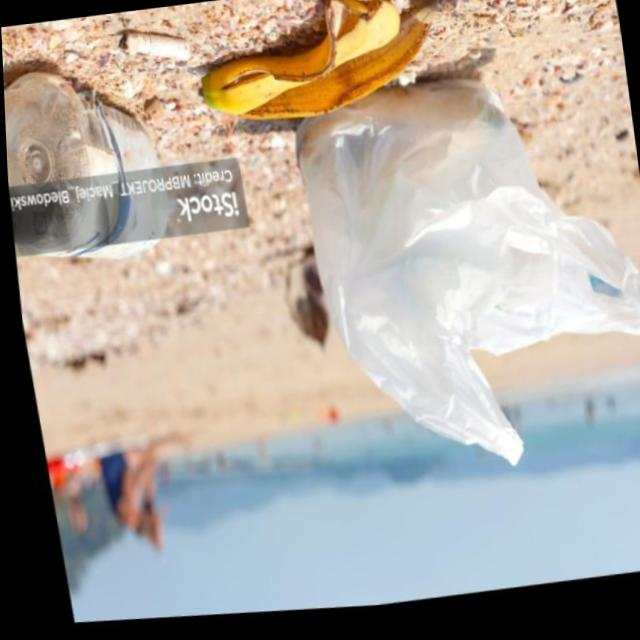fabric: (177, 0, 487, 162)
leaf: (2, 54, 201, 344)
metal: (255, 49, 640, 528)
wood: (103, 8, 209, 86)
